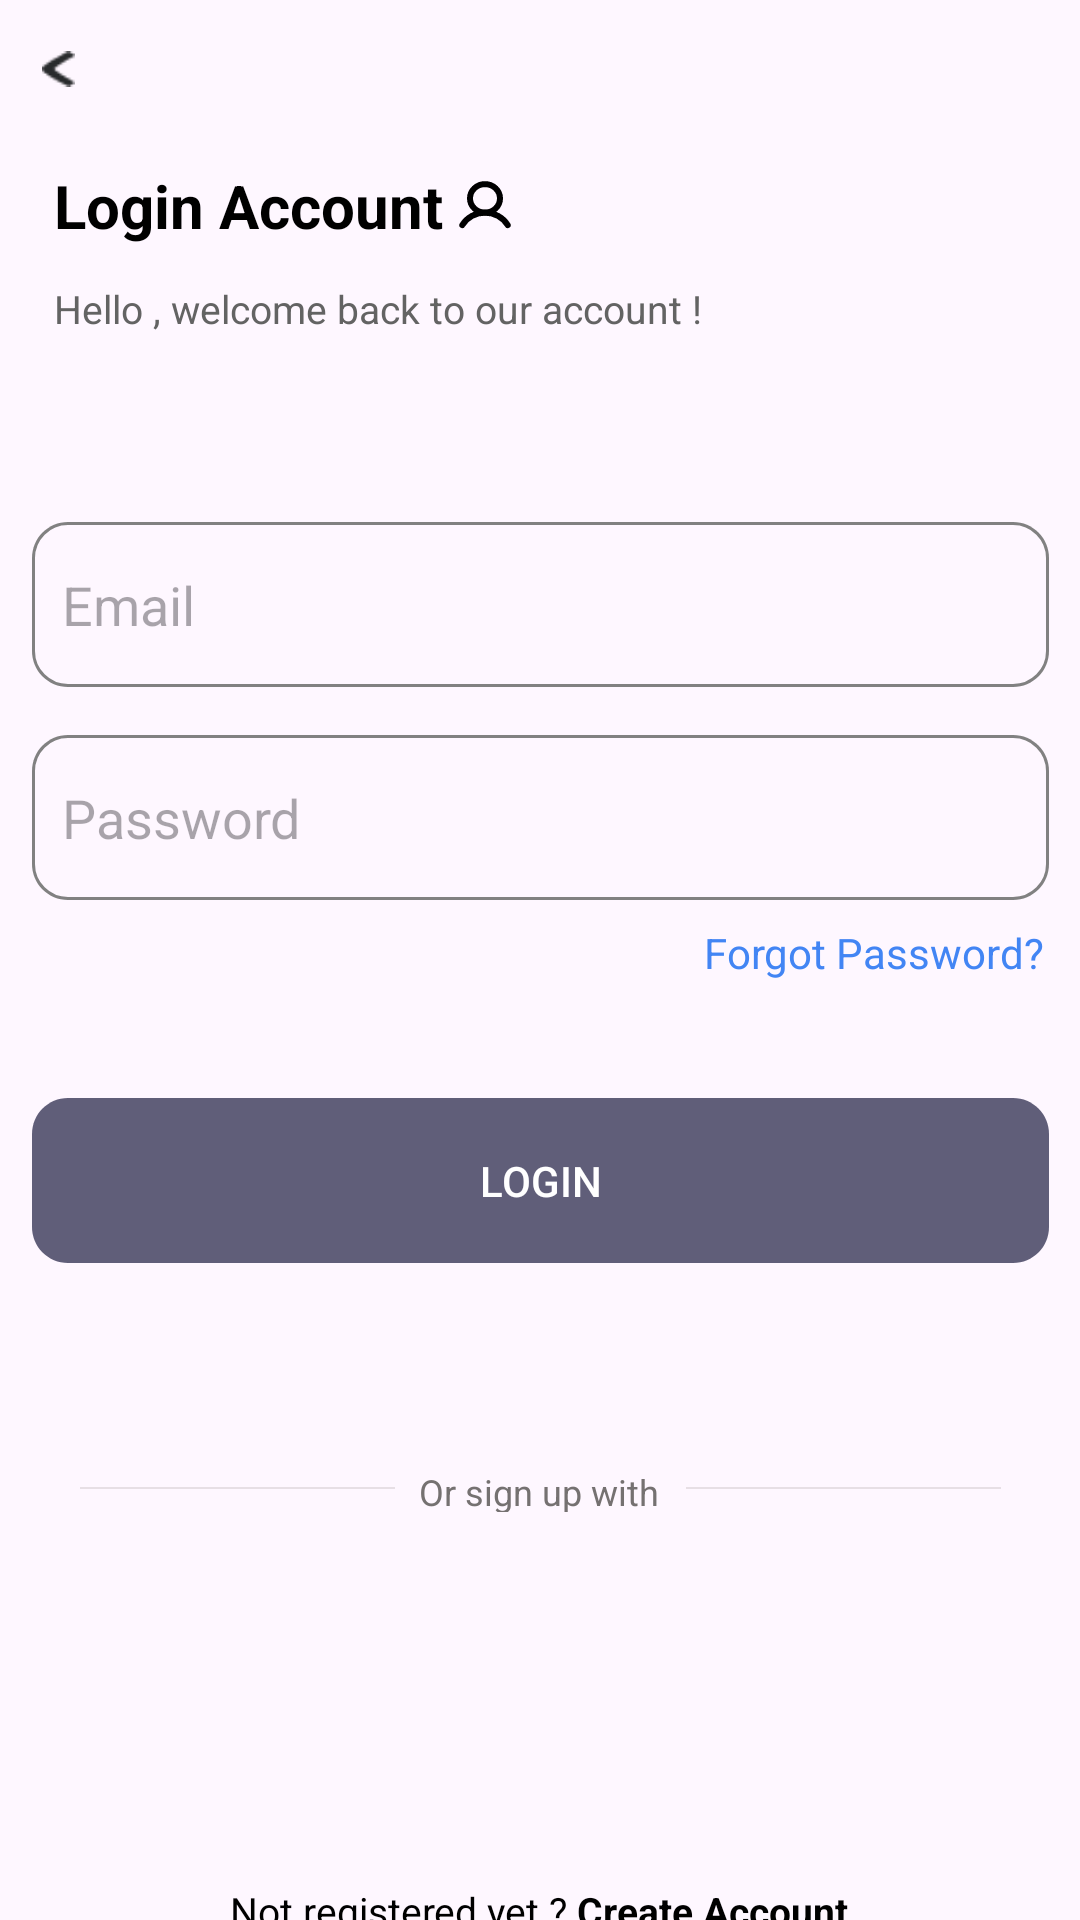

Named icons in this screenshot (1080px x 1920px) and their bounding boxes, (x1, y1, x2, y2):
seta back: (42, 51, 75, 87)
